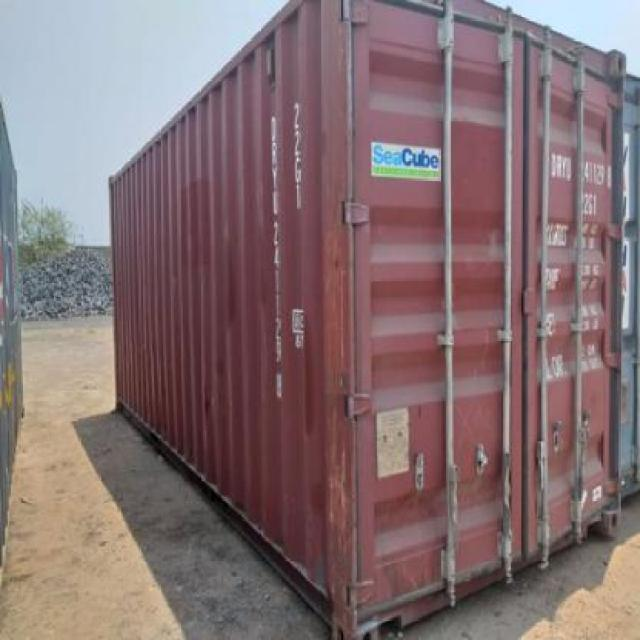ISO: (575, 190, 602, 217)
container_number: (544, 153, 616, 189)
